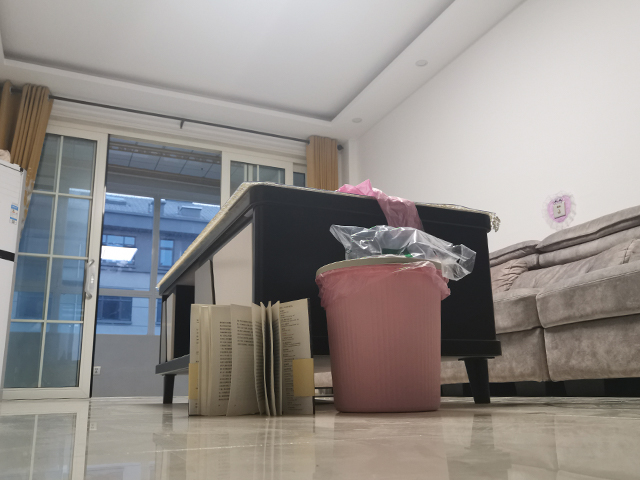book: (187, 296, 317, 420)
sofa: (485, 203, 640, 398)
table: (150, 180, 503, 405)
trashcan: (312, 254, 453, 414)
